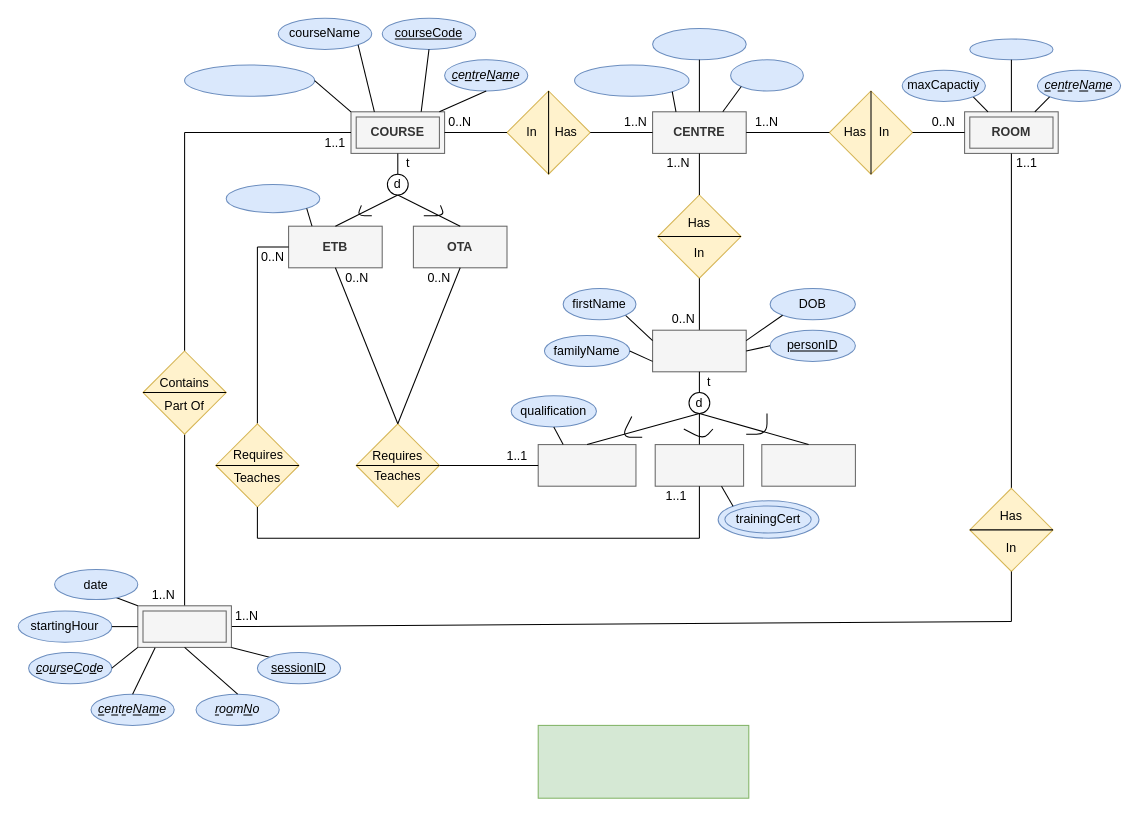
This 1139x816 diagram has some shape labels left out. The shapes that lost their labels are listed below. From the top down, each one's centre as x and y in pixels, then its label:
At point (699, 44): "centreName".
At point (1011, 49): "roomNo".
At point (249, 80): "numberOfSessions".
At point (631, 80): "numberOfRooms".
At point (766, 75): "address".
At point (272, 198): "businessID".
At point (699, 350): "PERSON".
At point (586, 465): "INSTRUCTOR".
At point (699, 465): "ASSISTANT".
At point (808, 465): "MEMBER".
At point (184, 626): "SESSION".
At point (643, 761): "ABBREVIATIONS DOB = DATE OF BIRTH ETB = EXCLUSIVE TO BUSINESS OTA = OPEN TO ALL".
